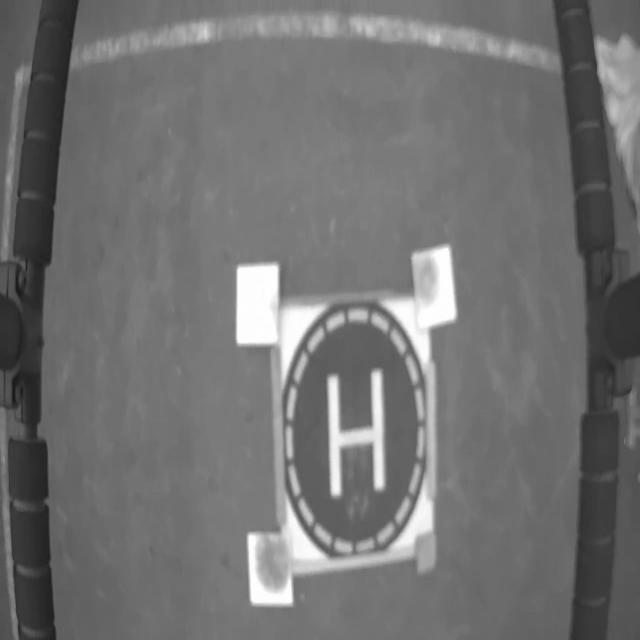Helipad: (328, 369, 388, 498)
